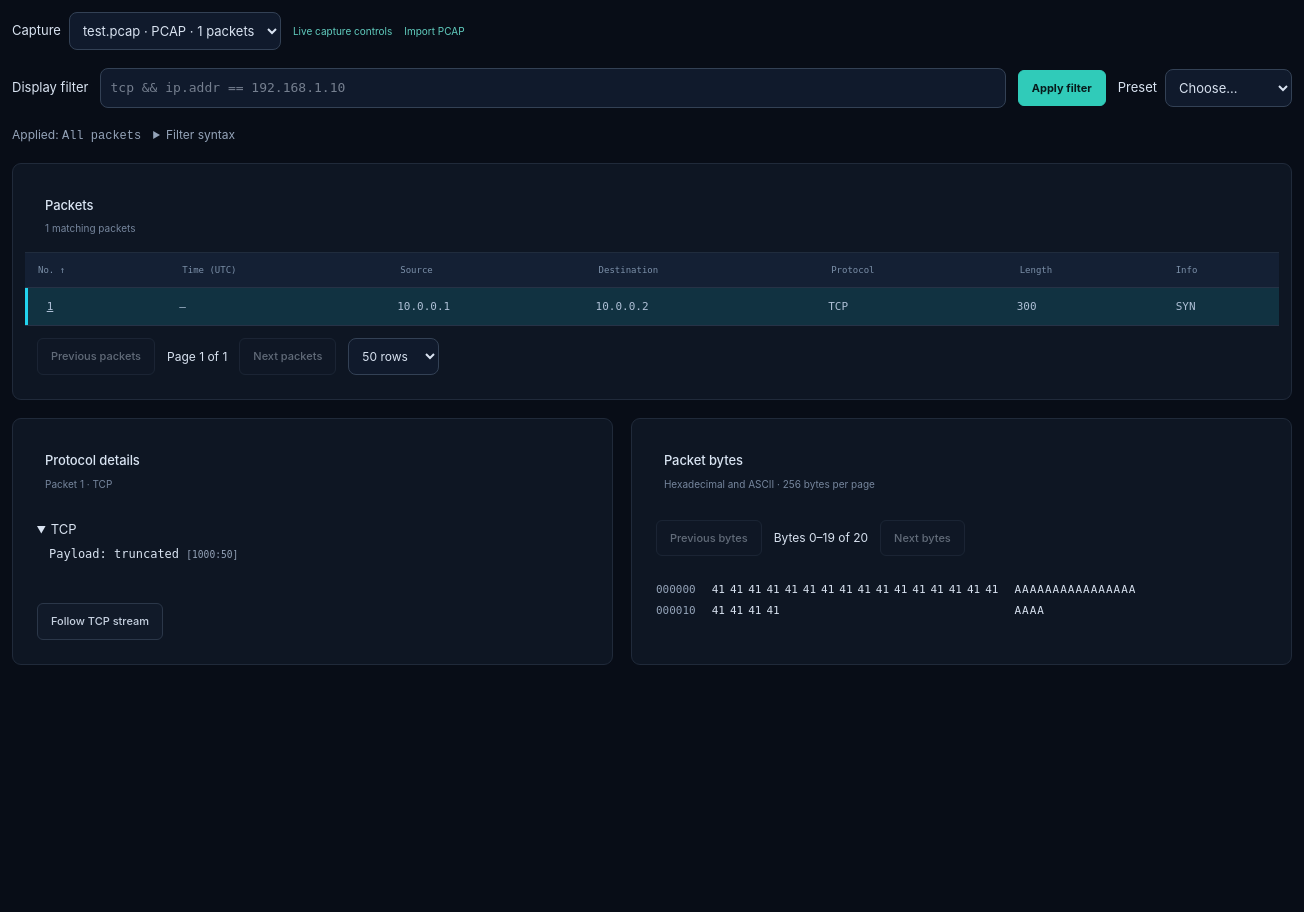
Test: keeps the byte page valid when a truncated field extends beyond retained bytes
Click the button "Payload: truncated [1000:50]" at {"x": 74, "y": 554}, box 37,539 -> 588,569
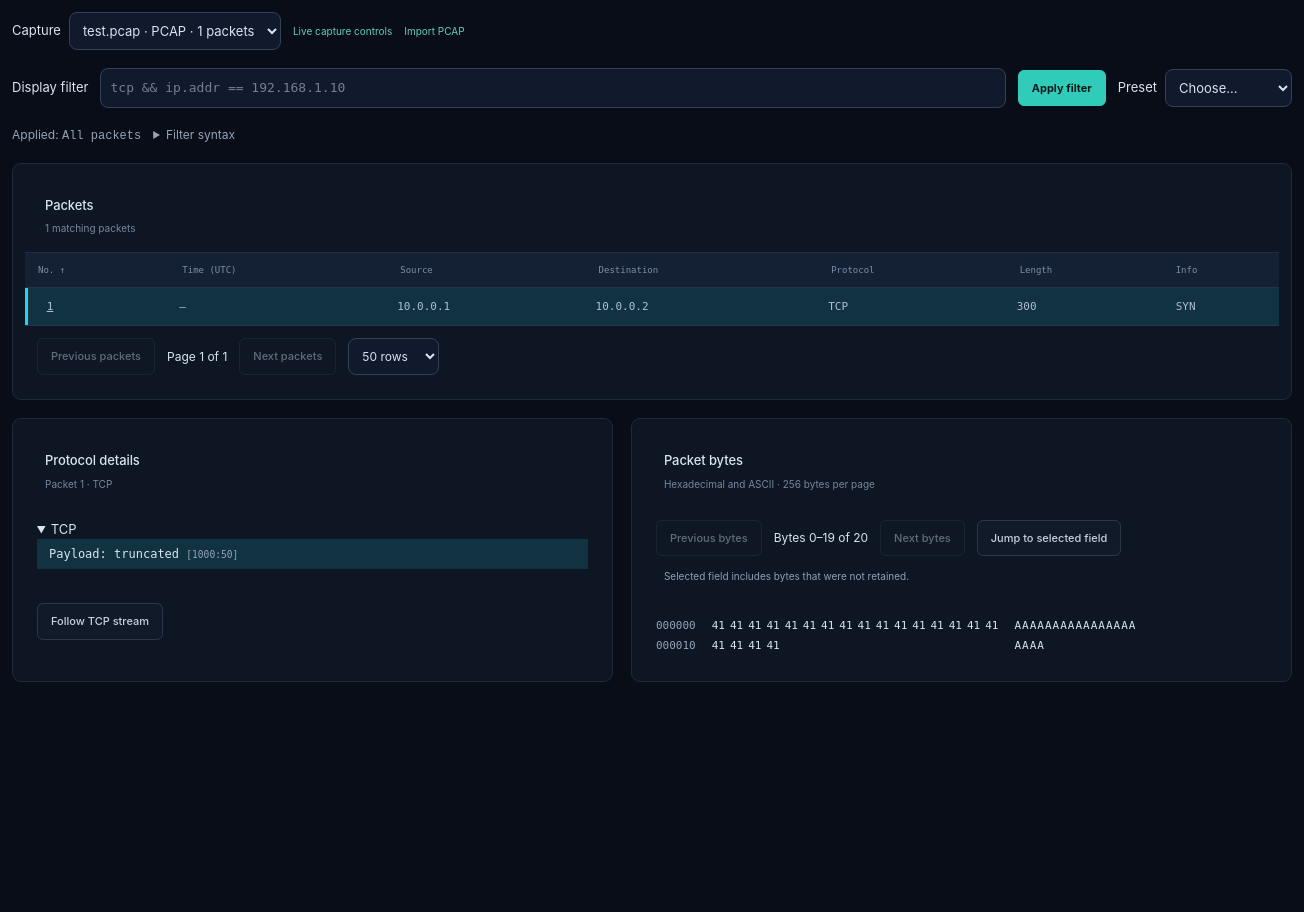
Expected: the text "Bytes 0–19 of 20" is shown, 774,529 -> 868,547
Now the text "Selected field includes bytes that were not retained." is shown, box 664,570 -> 909,582
